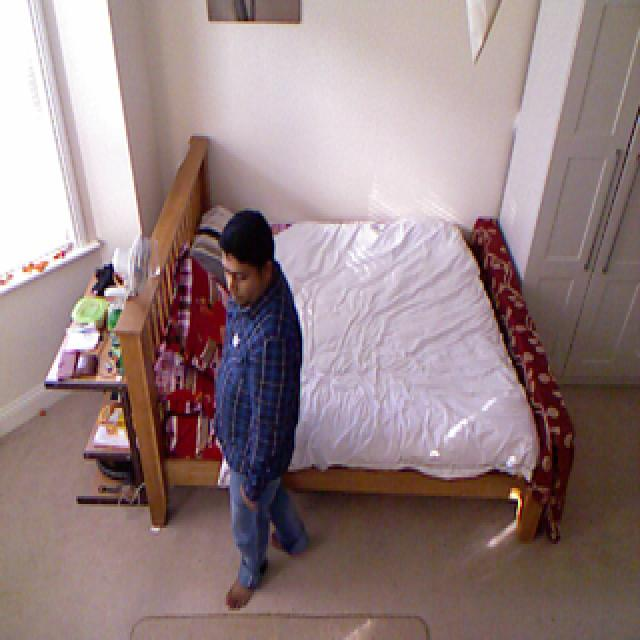standing: (212, 210, 309, 596)
